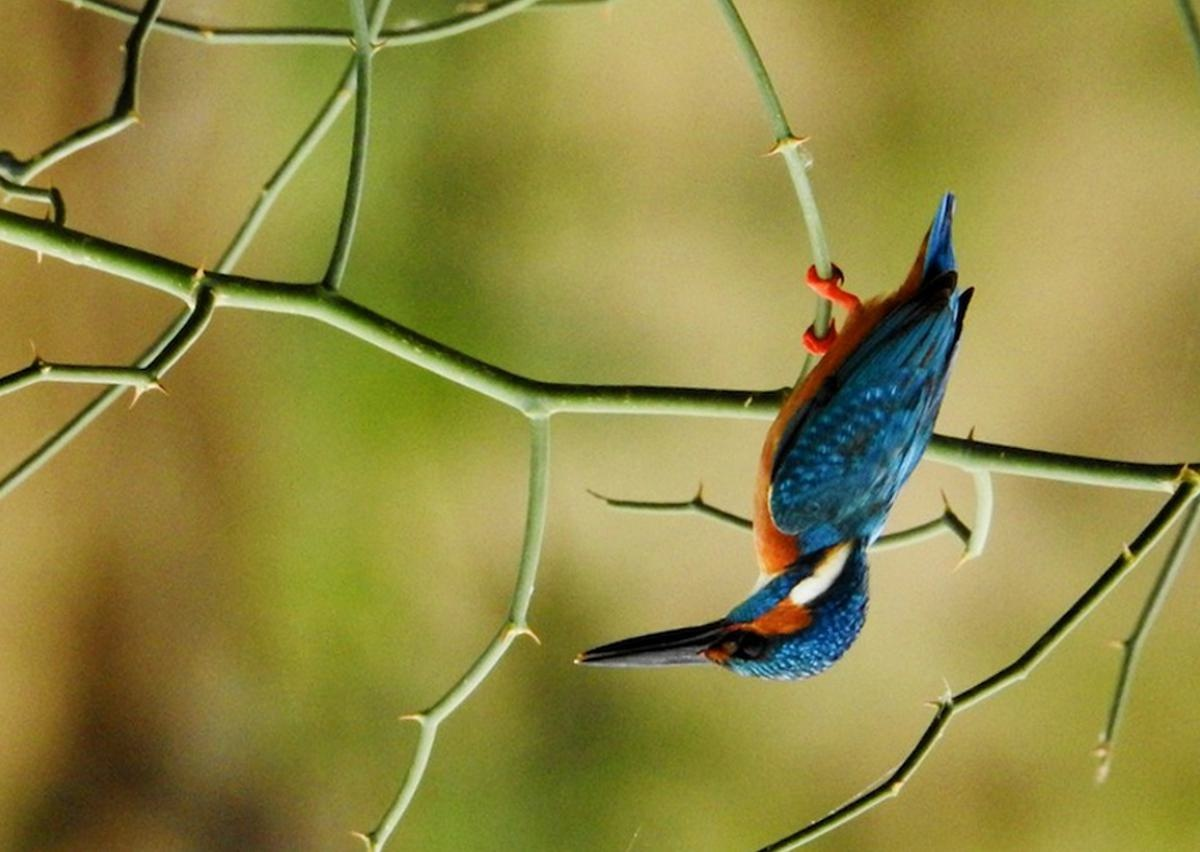kingfisher: (596, 194, 991, 708)
